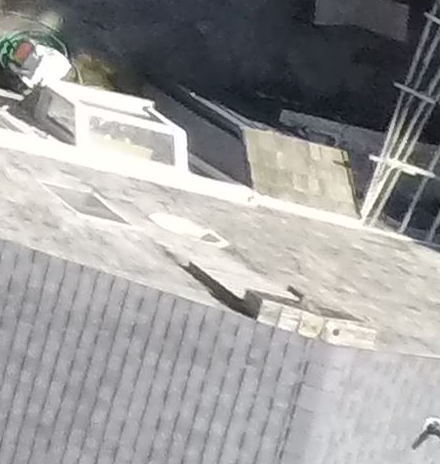hose: (1, 12, 83, 88)
